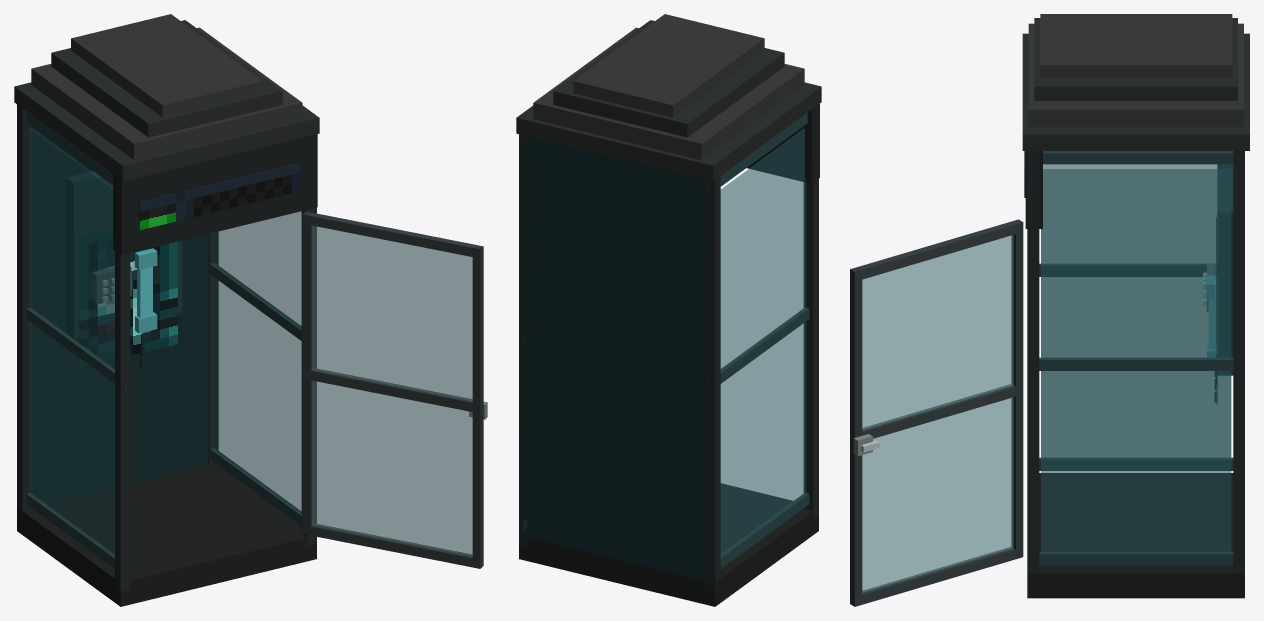
File: CMU3DPhoneboxOnCloudOpenStudy.glb
3 renders of one model, left to right at view 1: azimuth 30°, elevation 25°; view 2: azimuth 150°, elevation 25°; view 3: azimuth 270°, elevation 25°, orthographic. The views are drawn at different scales.
Parts seen in each view (by area): view 1: inset cyan side glass (×4), door inset glass (×2), booth rear wall, booth plinth, stepped booth cap 3, overdoor header, door vertical frame (×2), stepped booth cap 1, stepped booth cap 0, original cyan handset keypad and cradle, door transverse rail (×3), side transverse mullion (×5) (+9 smaller); view 2: booth rear wall, inset cyan side glass (×2), stepped booth cap 3, booth plinth, stepped booth cap 1, stepped booth cap 0, full height booth post 0-1, stepped booth cap 2, full height booth post 0-0, side transverse mullion (×3), full height booth post 1-1, overdoor header; view 3: inset cyan side glass (×4), door inset glass (×2), booth plinth, side transverse mullion (×5), stepped booth cap 3, door vertical frame (×2), door transverse rail (×3), stepped booth cap 0, stepped booth cap 1, full height booth post 1-0, stepped booth cap 2, full height booth post 1-1 (+2 smaller).
Boxes of the visible parts, left/top/right/bottom form: inset cyan side glass (×4): left=29, top=128, right=301, bottom=555; door inset glass (×2): left=312, top=226, right=472, bottom=555; booth rear wall: left=32, top=126, right=208, bottom=503; booth plinth: left=17, top=464, right=316, bottom=606; stepped booth cap 3: left=71, top=14, right=262, bottom=117; overdoor header: left=113, top=134, right=317, bottom=254; door vertical frame (×2): left=302, top=211, right=483, bottom=568; stepped booth cap 1: left=31, top=27, right=302, bottom=160; stepped booth cap 0: left=14, top=82, right=319, bottom=181; original cyan handset keypad and cradle: left=79, top=229, right=177, bottom=367; door transverse rail (×3): left=302, top=212, right=482, bottom=568; side transverse mullion (×5): left=26, top=112, right=301, bottom=568; booth rear wall: left=526, top=136, right=708, bottom=580; inset cyan side glass (×2): left=720, top=128, right=806, bottom=555; stepped booth cap 3: left=573, top=14, right=764, bottom=117; booth plinth: left=519, top=483, right=818, bottom=606; stepped booth cap 1: left=533, top=27, right=804, bottom=160; stepped booth cap 0: left=516, top=82, right=821, bottom=181; full height booth post 0-1: left=705, top=176, right=720, bottom=591; stepped booth cap 2: left=553, top=20, right=784, bottom=137; full height booth post 0-0: left=803, top=104, right=818, bottom=519; side transverse mullion (×3): left=706, top=113, right=809, bottom=568; full height booth post 1-1: left=519, top=134, right=528, bottom=546; overdoor header: left=747, top=104, right=819, bottom=183; inset cyan side glass (×4): left=1041, top=164, right=1231, bottom=552; door inset glass (×2): left=862, top=235, right=1013, bottom=592; booth plinth: left=1027, top=473, right=1244, bottom=598; side transverse mullion (×5): left=1039, top=151, right=1233, bottom=564; stepped booth cap 3: left=1040, top=14, right=1232, bottom=77; door vertical frame (×2): left=850, top=219, right=1023, bottom=606; door transverse rail (×3): left=850, top=220, right=1023, bottom=606; stepped booth cap 0: left=1022, top=33, right=1249, bottom=150; stepped booth cap 1: left=1028, top=23, right=1243, bottom=126; full height booth post 1-0: left=1027, top=151, right=1039, bottom=573; stepped booth cap 2: left=1034, top=18, right=1237, bottom=100; full height booth post 1-1: left=1233, top=151, right=1244, bottom=573.
Bounding box in the file's own units: 1.01 × 1.62 × 1.16.
Materials: 21 (2 with a texture image).
